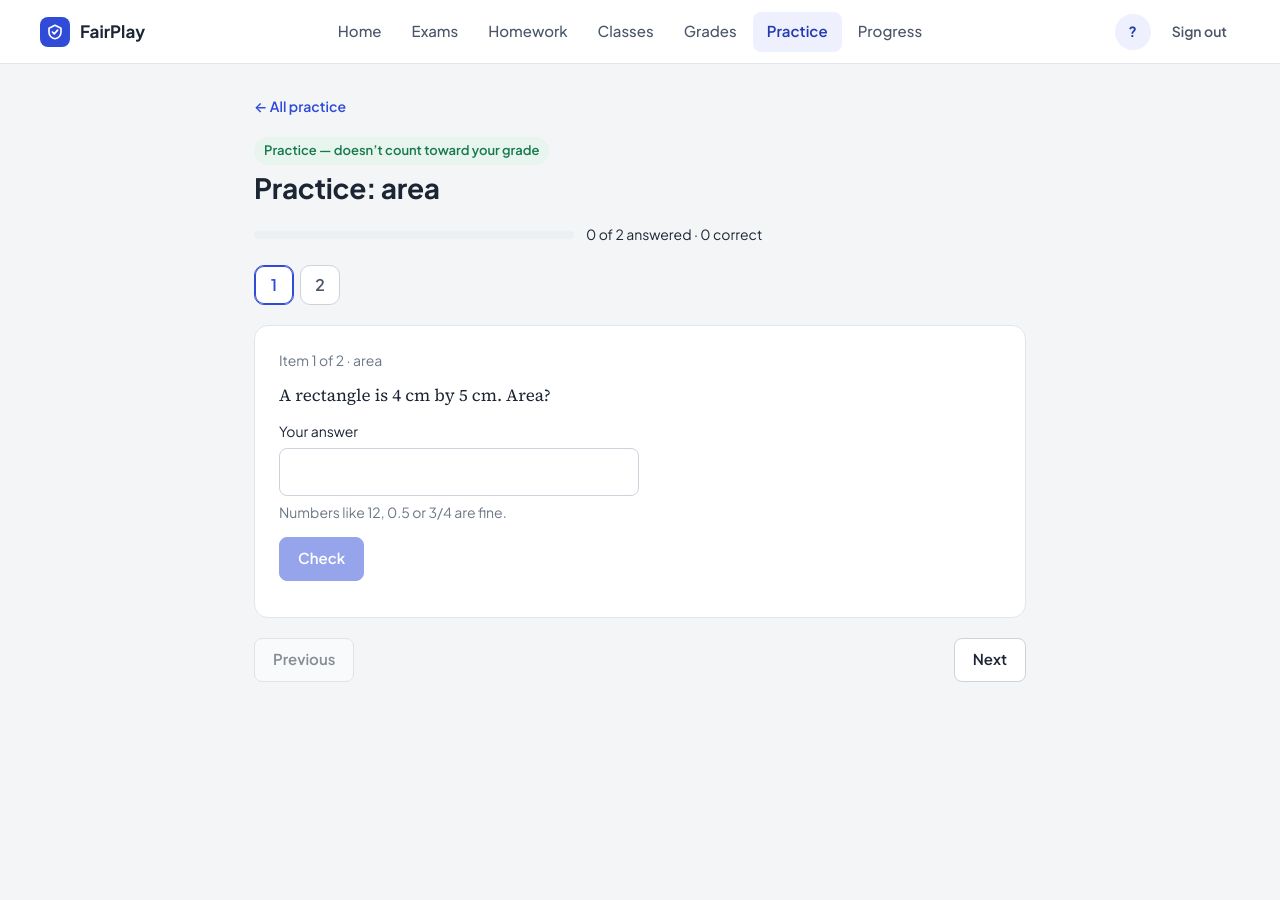
Test: student practice page › answers items one by one with instant feedback
Step 1. Type "21" into the field labelled "Your answer Numbers like 12, 0.5 or 3/4 are fine." → (459, 472), box [279, 448, 639, 496]
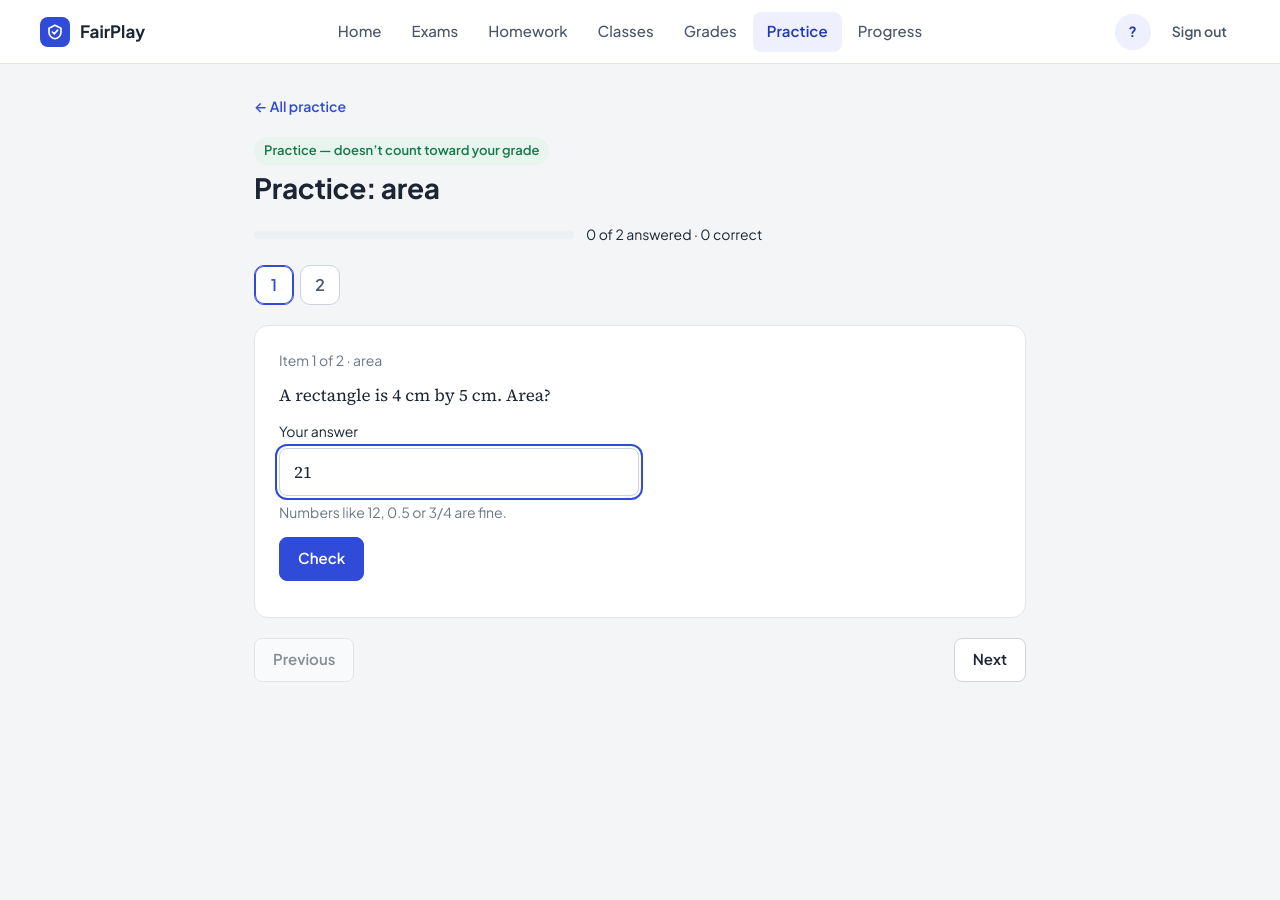
Step 2. Click the button "Check" → (322, 559), box [279, 537, 364, 581]
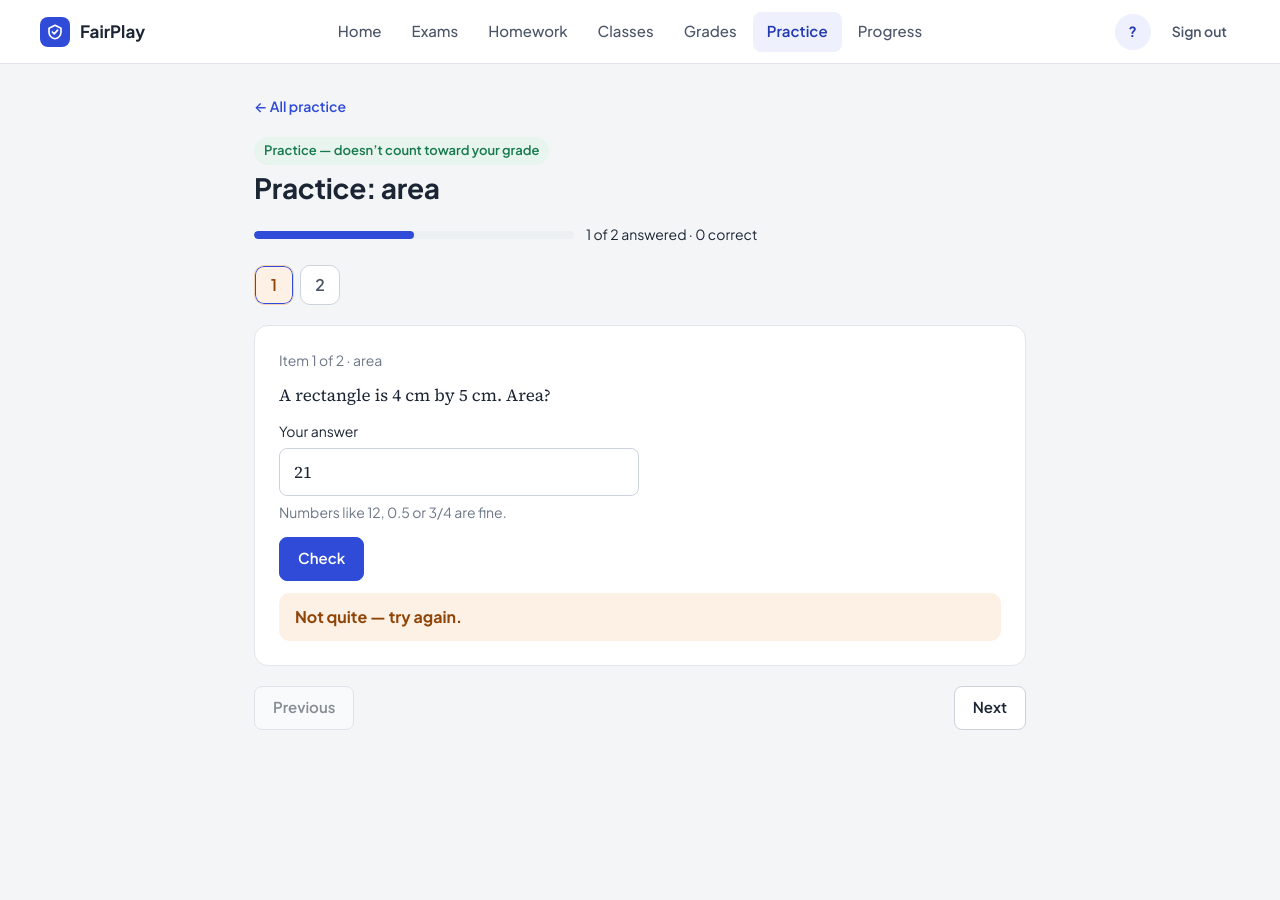
Result: the text "Not quite — try again." is shown at [295, 606, 462, 627]
Step 3. Replace the text in the field labelled "Your answer Numbers like 12, 0.5 or 3/4 are fine." with "20" → (459, 472), box [279, 448, 639, 496]
Step 4. Click the button "Check" → (322, 559), box [279, 537, 364, 581]
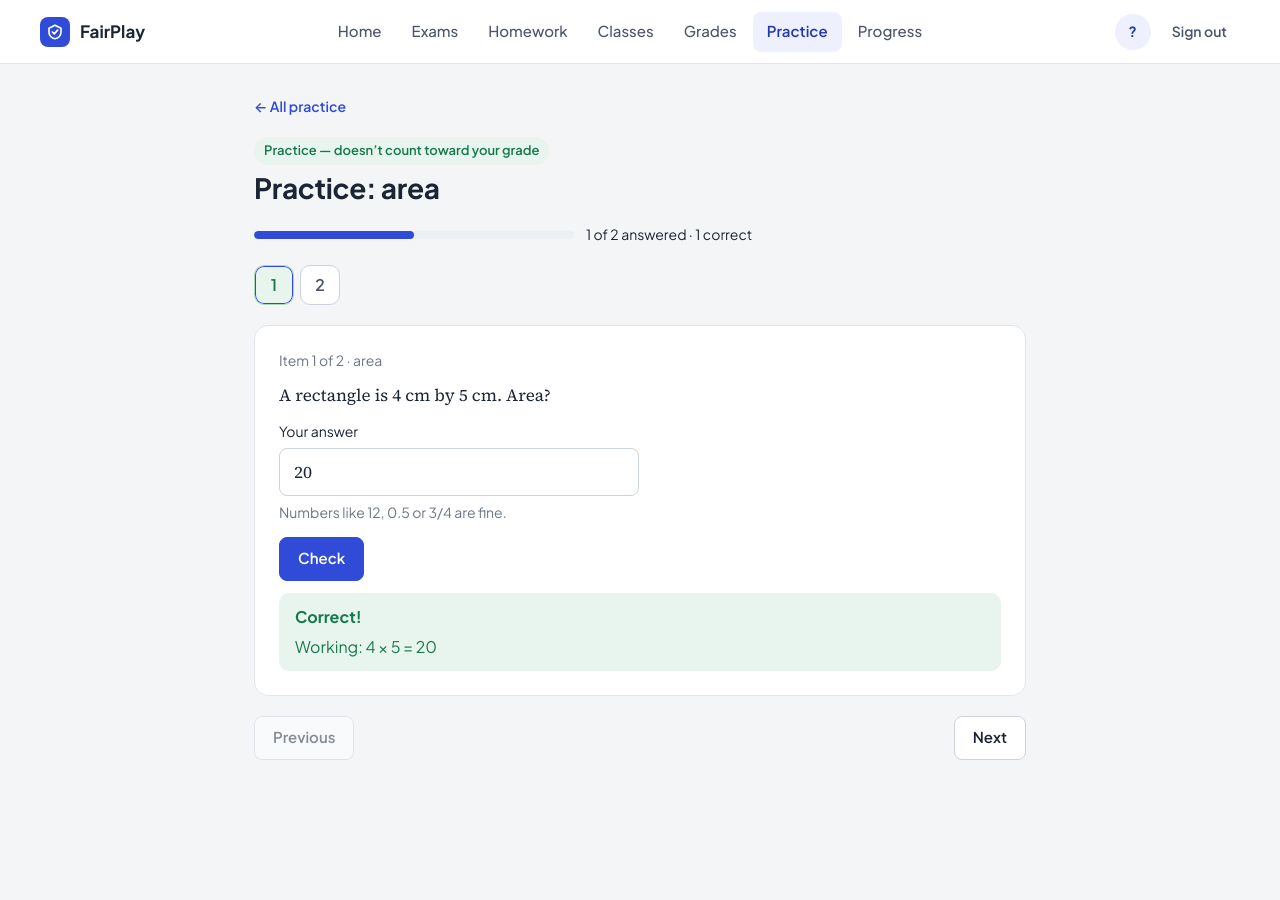
Result: the text "Correct!" is shown at [295, 606, 362, 627]
Result: the text "Working: 4 × 5 = 20" is shown at [295, 636, 437, 657]
Result: the text "1 of 2 answered · 1 correct" is shown at [586, 224, 752, 245]
Step 5. Click the button "Next" → (990, 738), box [954, 716, 1026, 760]
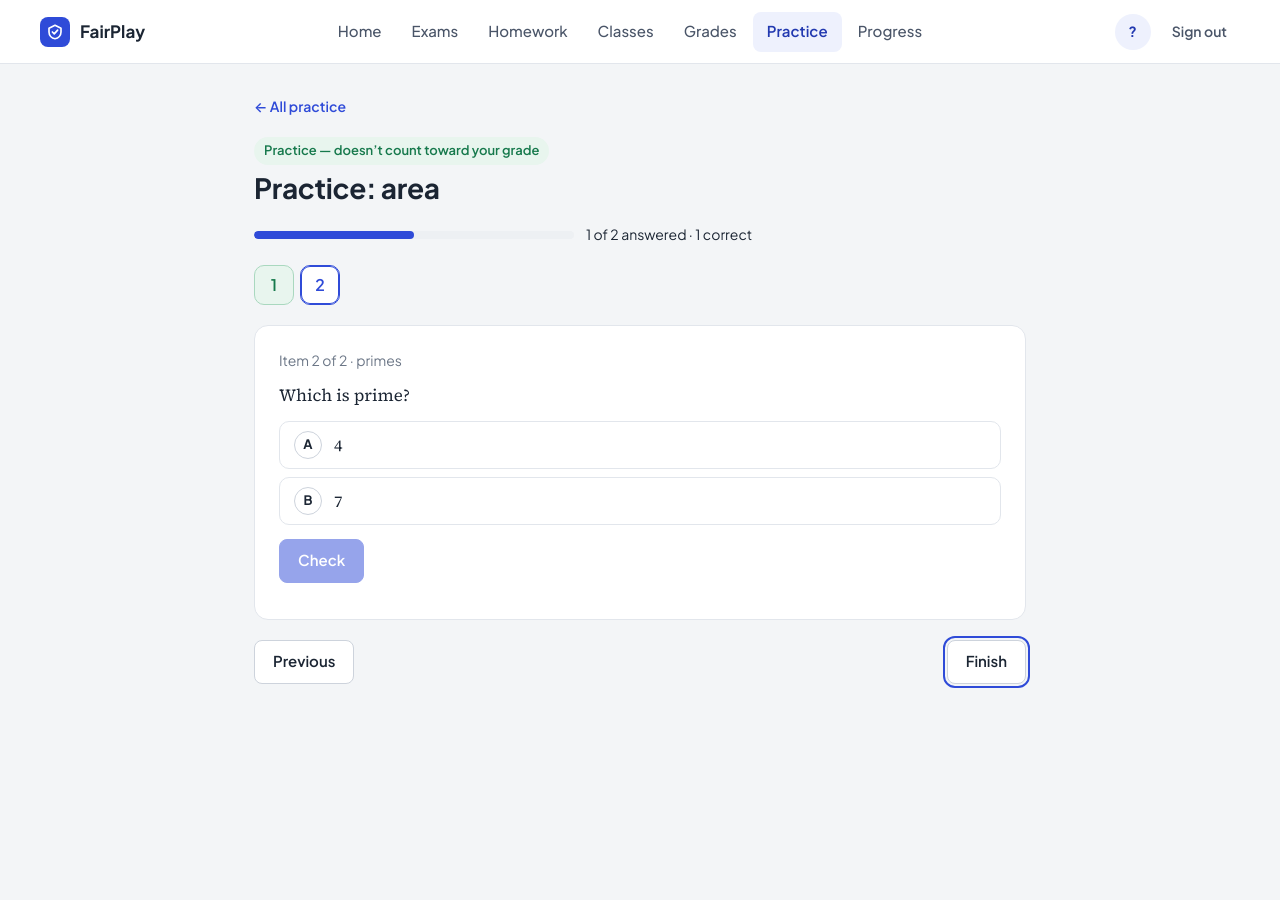
Result: the text "Which is prime?" is shown at [279, 383, 410, 407]
Step 6. Click the radio button labelled "B 7" → (308, 501), box [279, 477, 1001, 525]
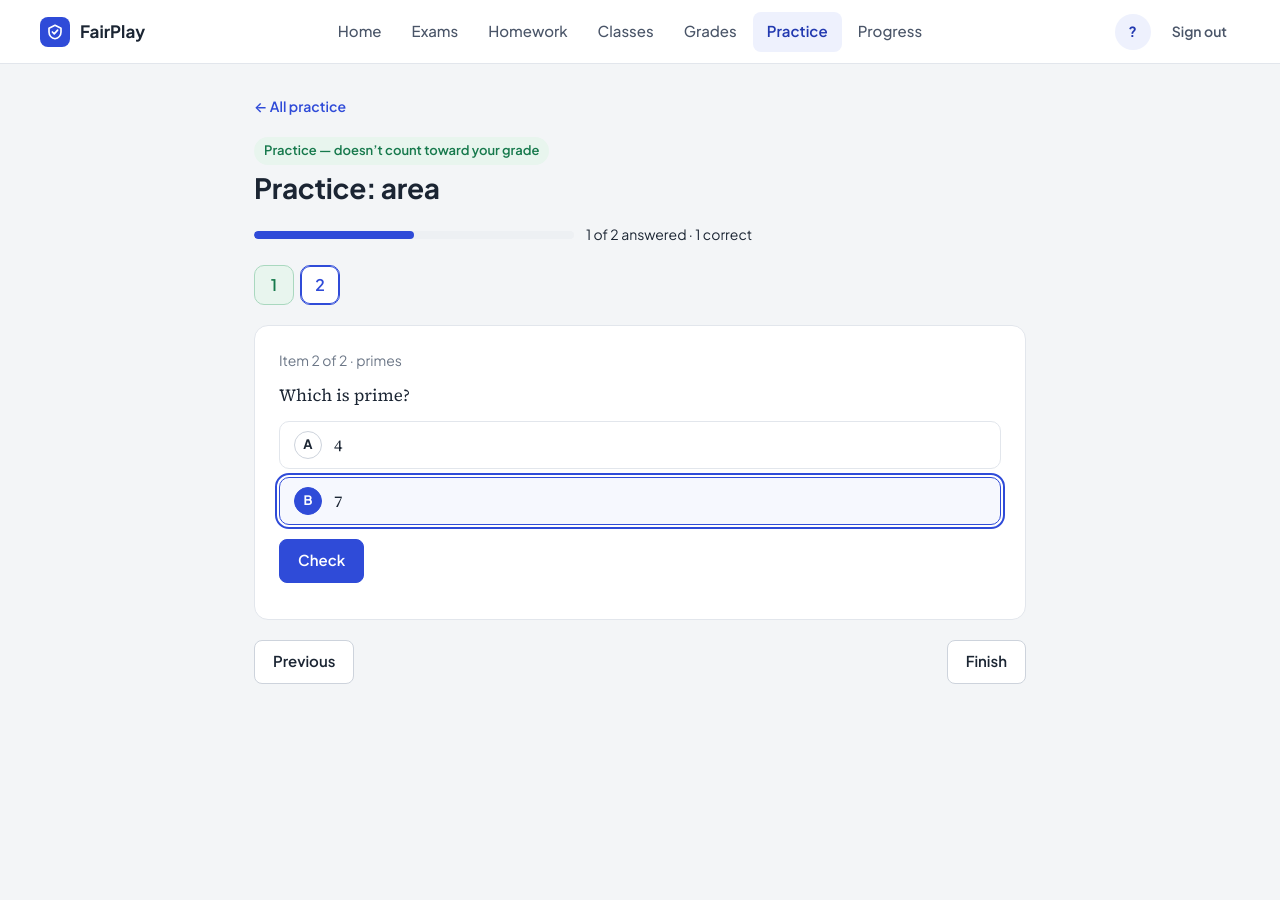
Step 7. Click the button "Check" → (322, 561), box [279, 539, 364, 583]
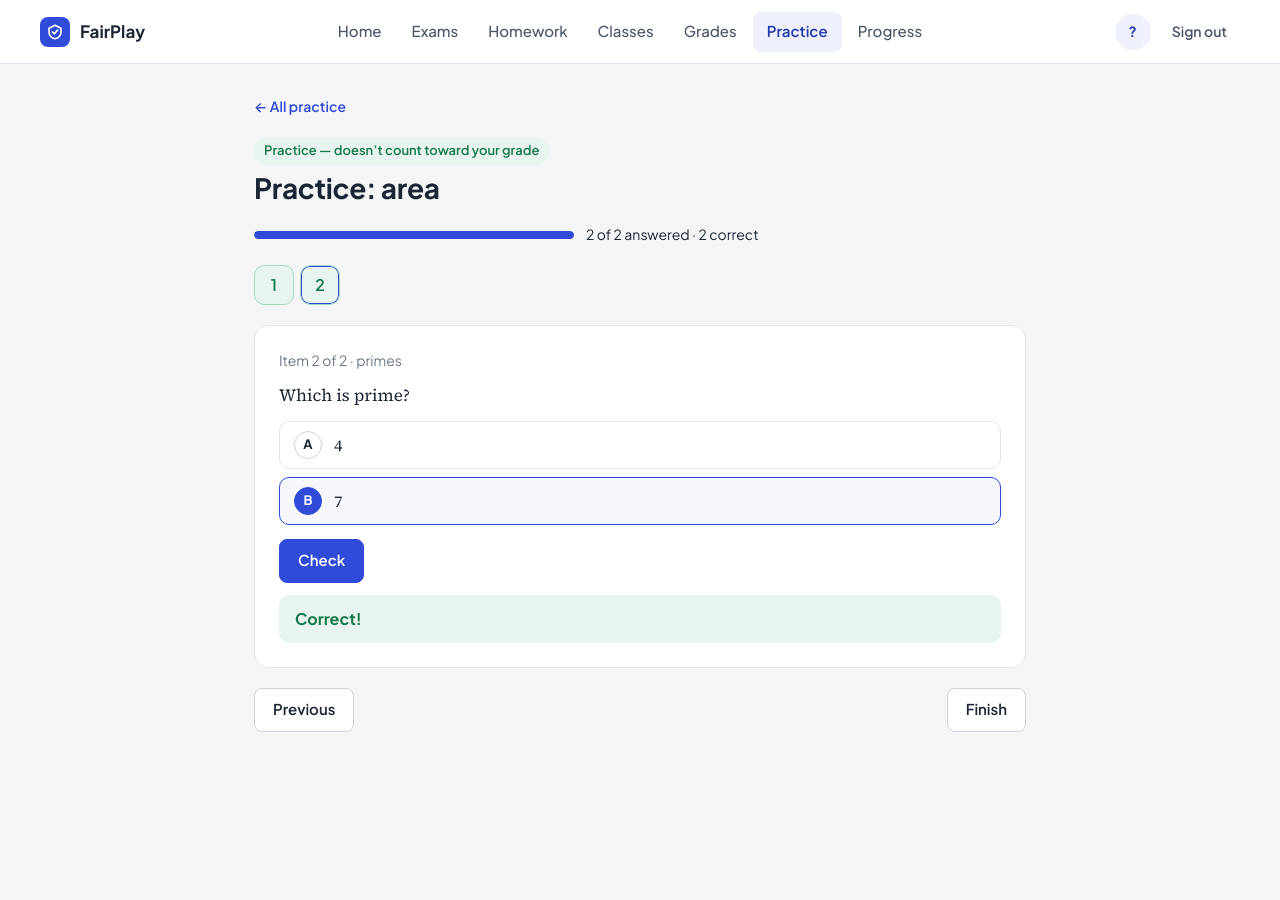
Result: the button named "Item 1, correct" is shown at [254, 265, 294, 305]
Result: the text "2 of 2 answered · 2 correct" is shown at [586, 224, 759, 245]
